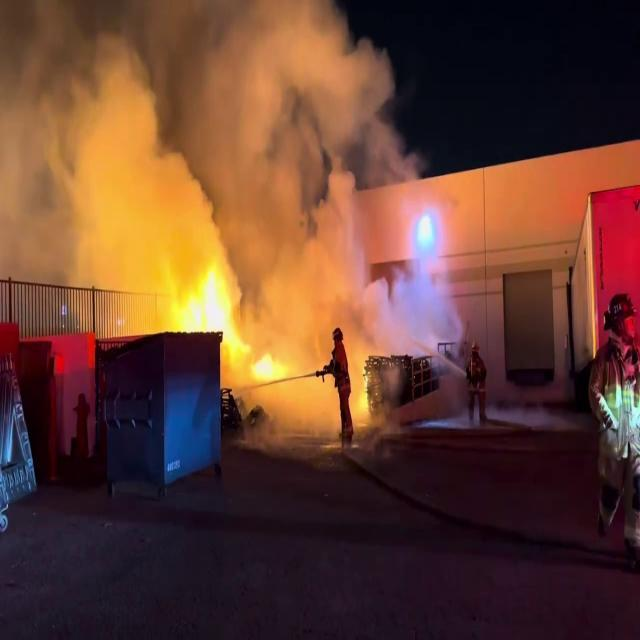Fire: (176, 254, 237, 352), (247, 341, 285, 387)
Smoke: (0, 0, 444, 348)
